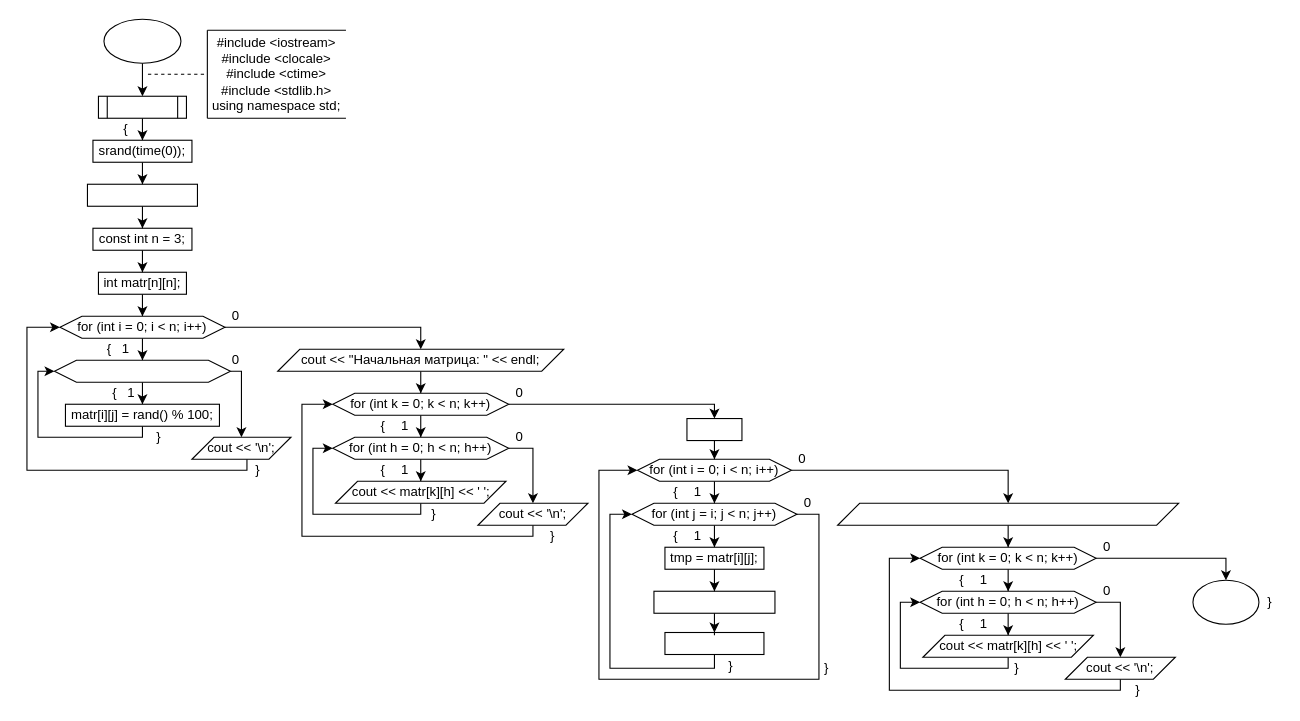
The diagram is 1300 pixels wide and 721 high, and some of its shapes have lost their labels. The centre of each missing label's shape, as x and y in pixels:
cout << "Транспортированная матрица: " << endl;: pixel 1008 513
for (int j = 0; j < n; j++): pixel 141 370
int main(): pixel 141 106
int tmp;: pixel 714 429
matr[i][j] = matr[j][i];: pixel 714 601
matr[j][i] = tmp;: pixel 714 642
return 0;: pixel 1225 601
setlocale(0, "rus");: pixel 141 194
Начало: pixel 142 40
